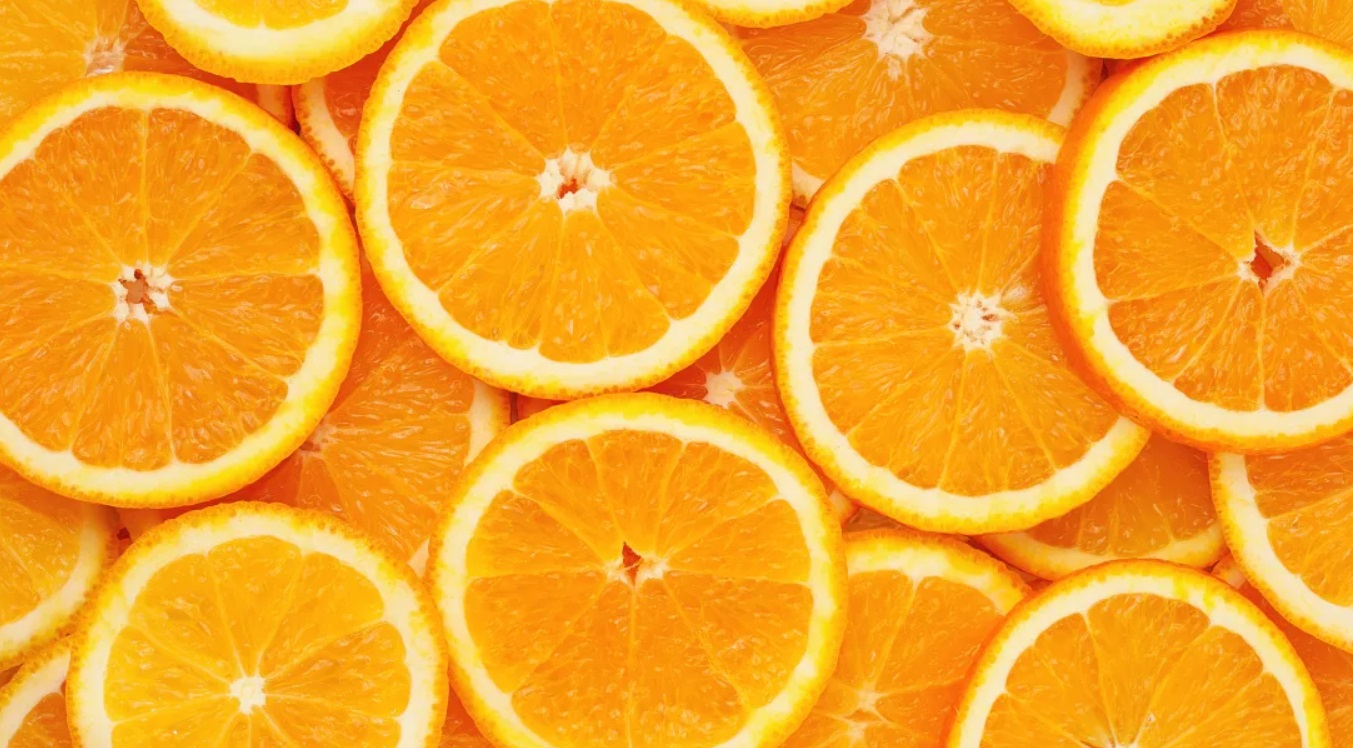Orange: (23, 25, 1327, 732)
